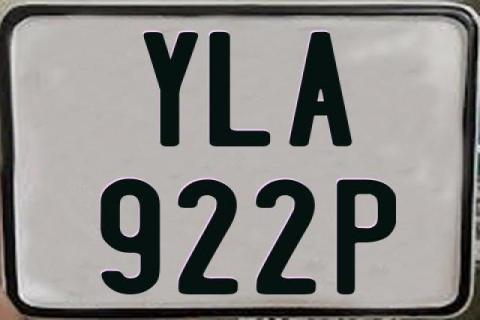0: (101, 177, 164, 293), (255, 178, 318, 294), (178, 180, 238, 296)
A: (288, 31, 357, 149)
L: (209, 31, 271, 151)
P: (335, 179, 400, 299)
Y: (143, 30, 204, 144)
